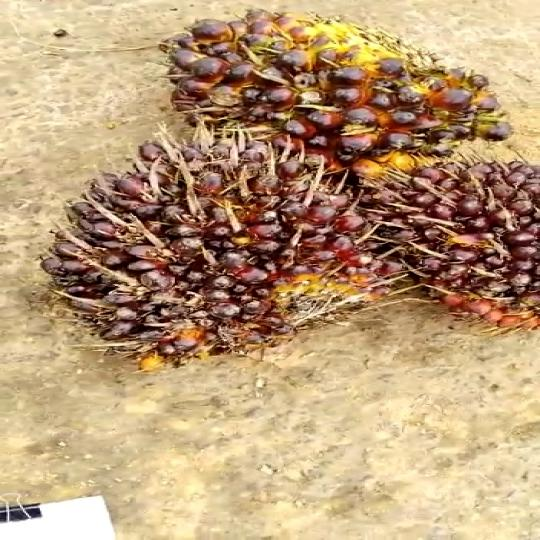kurang masak: (38, 130, 360, 370), (160, 10, 540, 189), (362, 143, 540, 346)
